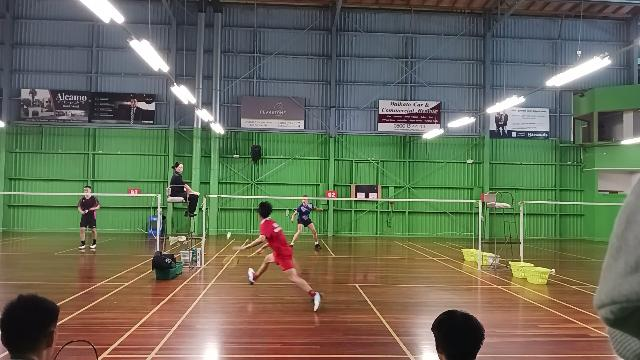Shuttlecock: (222, 229, 232, 239)
